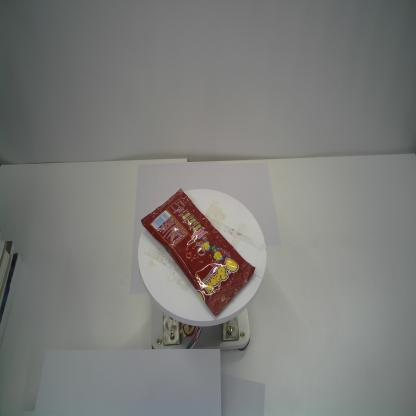Candy: (140, 188, 256, 318)
